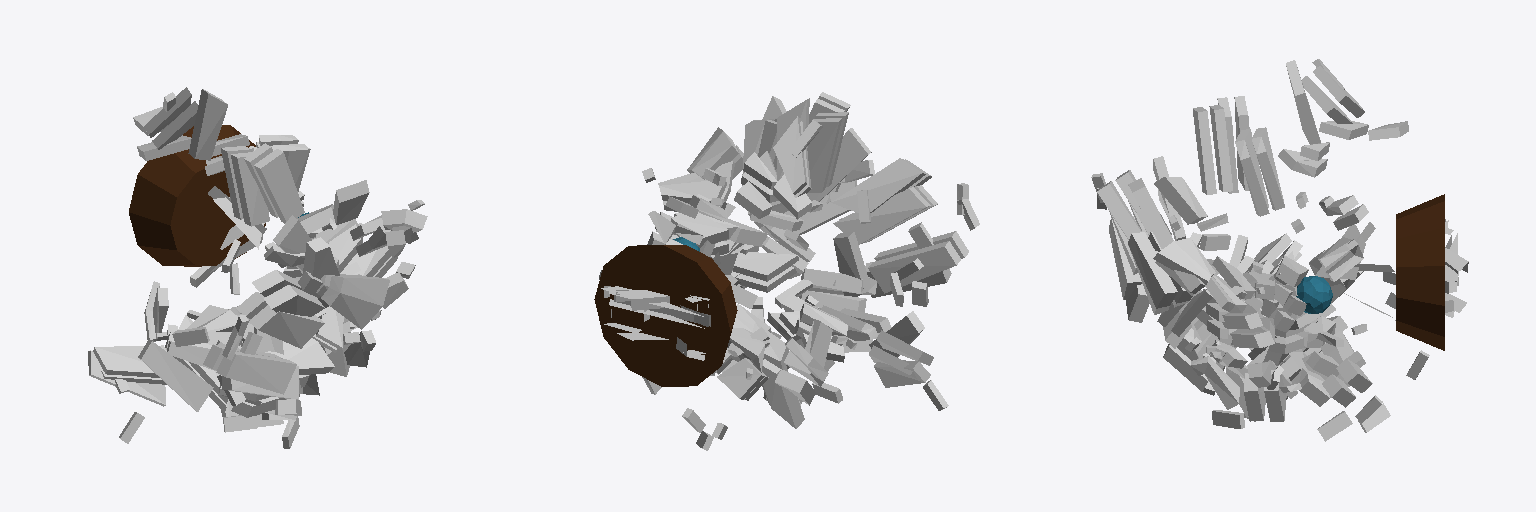
3 renders of one model, left to right at view 1: azimuth 30°, elevation 25°; view 2: azimuth 150°, elevation 25°; view 3: azimuth 270°, elevation 25°, orthographic.
Visible parts, largest first — view 1: Cone_Cone_cover, Cone.001_Cone.001_cover, Cylinder_Cylinder_Material.001, Plane_Plane_Material.003; view 2: Cone.001_Cone.001_cover, Cone_Cone_cover, Cylinder_Cylinder_Material.001, Plane_Plane_Material.003; view 3: Cone_Cone_cover, Cone.001_Cone.001_cover, Cylinder_Cylinder_Material.001, Plane_Plane_Material.003, Icosphere_Icosphere_ball.
Part boxes in pixels (x1,y1,x2,y2): Cone_Cone_cover: (172, 180, 427, 448); Cone.001_Cone.001_cover: (88, 87, 424, 443); Cylinder_Cylinder_Material.001: (129, 125, 265, 266); Plane_Plane_Material.003: (208, 186, 266, 272); Cone.001_Cone.001_cover: (642, 92, 979, 432); Cone_Cone_cover: (599, 96, 968, 450); Cylinder_Cylinder_Material.001: (594, 245, 737, 386); Plane_Plane_Material.003: (601, 252, 737, 360); Cone_Cone_cover: (1097, 170, 1395, 441); Cone.001_Cone.001_cover: (1091, 59, 1429, 422); Cylinder_Cylinder_Material.001: (1396, 194, 1444, 350); Plane_Plane_Material.003: (1315, 219, 1468, 317); Icosphere_Icosphere_ball: (1296, 276, 1332, 313).
Bounding box in the file's own units: 2.67 × 2.7 × 2.66.
4 materials, 1 textured.